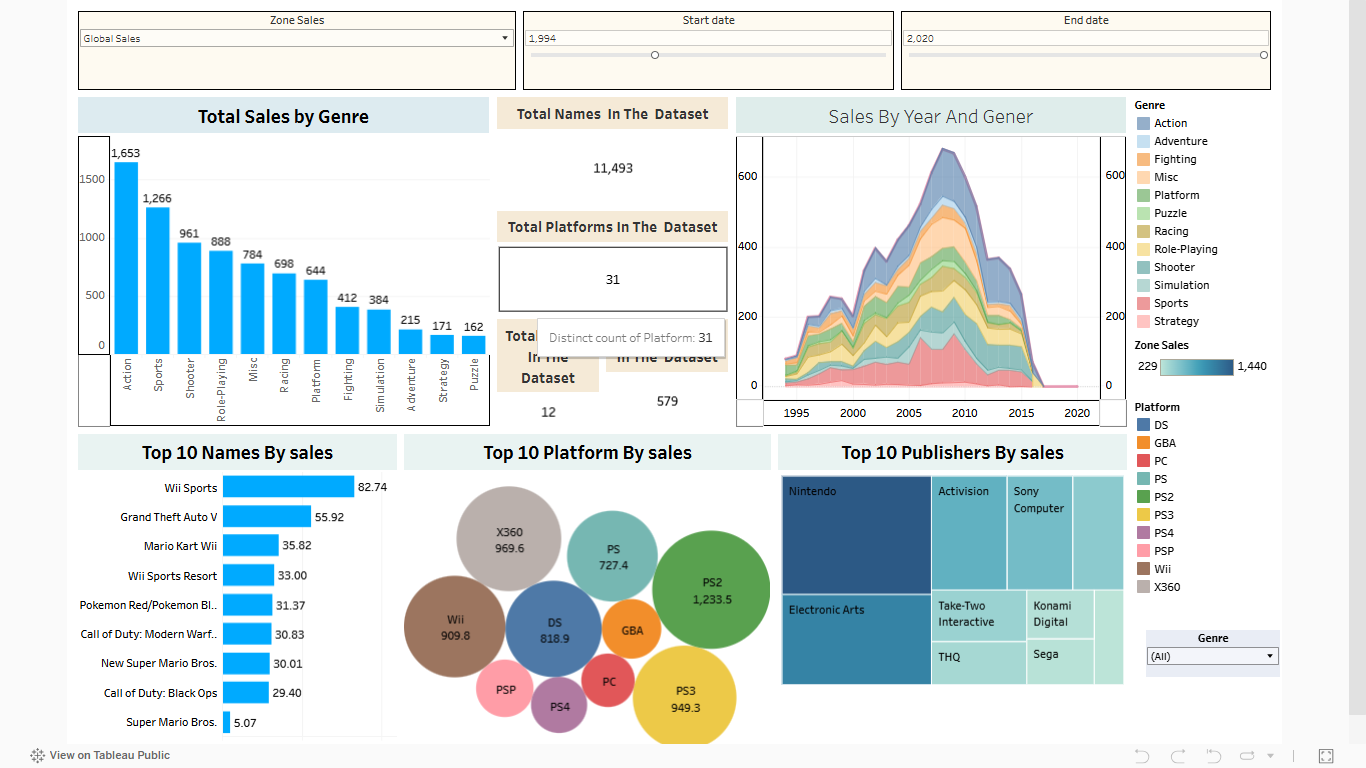

Layout of this report page (visuals, bound fields, positions):
{"tool":"tableau","page":{"name":"Dashboard 1","canvas":[1000,1000],"units":"permille","ordinal":0},"visuals":[{"type":"parameter","param":"[Parameters].[Parameter 2]","box":[7,9.3,366.1,111.6]},{"type":"parameter","param":"[Parameters].[Parameter 1]","box":[373.1,9.3,309.9,111.6]},{"type":"parameter","param":"[Parameters].[Parameter 3]","box":[683,9.3,309.9,111.6]},{"type":"worksheet","title":"Total Sales by Genre","mark":"Automatic","rows":["Calculation_1672242887837925378"],"cols":["Genre"],"box":[7,120.9,335.4,434.8]},{"type":"worksheet","title":"Total Names  In The  Dataset","mark":"Automatic","box":[342.4,120.9,191.4,146.5]},{"type":"worksheet","title":"Sales By Year And Gener","mark":"Automatic","rows":["Calculation_1672242887837925378","Calculation_1672242887837925378"],"cols":["Year"],"box":[533.8,120.9,318.7,434.8]},{"type":"legend","title":"Sales By Year And Gener","param":"[federated.04ai6vs1b3povy10w8qi105v5vx0].[none:Genre:nk]","box":[852.5,120.9,140.5,309.3]},{"type":"worksheet","title":"Total Platforms In The  Dataset","mark":"Automatic","box":[342.4,267.4,191.4,140.7]},{"type":"worksheet","title":"Total Genres In The  Dataset","mark":"Automatic","box":[342.4,408.1,87.4,147.6]},{"type":"worksheet","title":"Total Publishers In The  Dataset","mark":"Automatic","box":[429.8,408.1,104,147.6]},{"type":"legend","title":"Top 10 Publishers By sales","param":"[federated.04ai6vs1b3povy10w8qi105v5vx0].[sum:Calculation_1672242887837925378:qk","box":[852.5,430.2,140.5,75.6]},{"type":"legend","title":"Top 10 Platform By sales","param":"[federated.04ai6vs1b3povy10w8qi105v5vx0].[none:Platform:nk]","box":[852.5,505.8,140.5,262.8]},{"type":"worksheet","title":"Top 10 Names By sales","mark":"Automatic","rows":["Name"],"cols":["Calculation_1672242887837925378"],"box":[7,555.8,261.6,434.9]},{"type":"worksheet","title":"Top 10 Platform By sales","mark":"Circle","box":[268.6,555.8,298.5,434.9]},{"type":"worksheet","title":"Top 10 Publishers By sales","mark":"Automatic","box":[567.1,555.8,285.4,434.9]},{"type":"filter","title":"Sales By Year And Gener","param":"[federated.04ai6vs1b3povy10w8qi105v5vx0].[none:Genre:nk]","box":[888.2,814,110.3,60.5]}]}

Visuals, with their boxes on the dashboard's canvas, which has no fixed pixel size, in thousandths of its width and height (x1, y1, x2, y2). These are canvas units, not pixel positions in the 1366x768 screenshot, which may show the page scaled, cropped or inside an application window:
parameter: 7:9:373:121
parameter: 373:9:683:121
parameter: 683:9:993:121
"Total Sales by Genre" worksheet: 7:121:342:556
"Total Names  In The  Dataset" worksheet: 342:121:534:267
"Sales By Year And Gener" worksheet: 534:121:852:556
"Sales By Year And Gener" legend: 852:121:993:430
"Total Platforms In The  Dataset" worksheet: 342:267:534:408
"Total Genres In The  Dataset" worksheet: 342:408:430:556
"Total Publishers In The  Dataset" worksheet: 430:408:534:556
"Top 10 Publishers By sales" legend: 852:430:993:506
"Top 10 Platform By sales" legend: 852:506:993:769
"Top 10 Names By sales" worksheet: 7:556:269:991
"Top 10 Platform By sales" worksheet (Circle marks): 269:556:567:991
"Top 10 Publishers By sales" worksheet: 567:556:852:991
"Sales By Year And Gener" filter: 888:814:998:874
